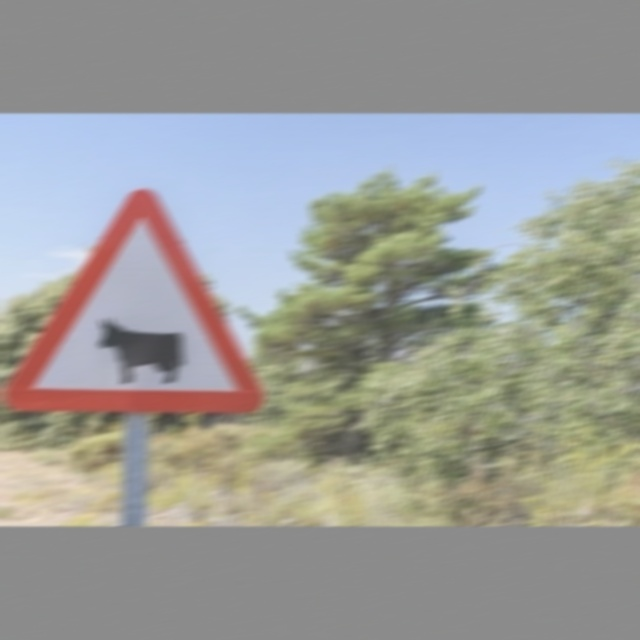Cattle: (37, 199, 251, 414)
